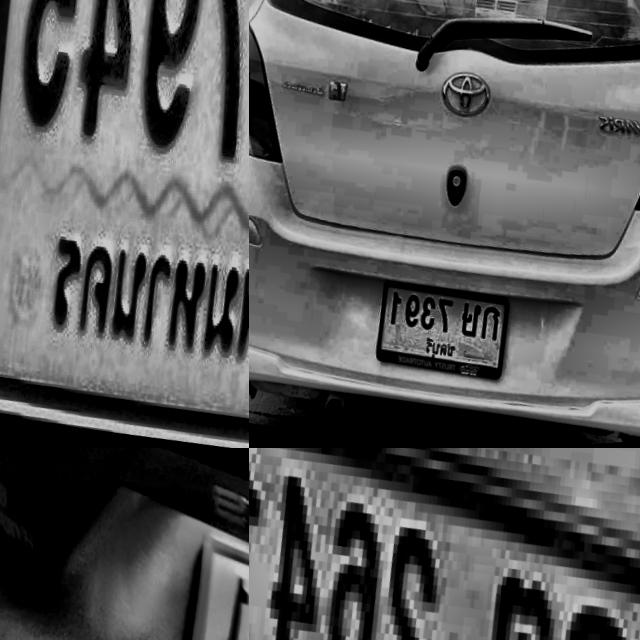license-plate: (0, 0, 249, 448), (249, 448, 640, 640), (355, 275, 507, 389), (135, 519, 249, 640)
